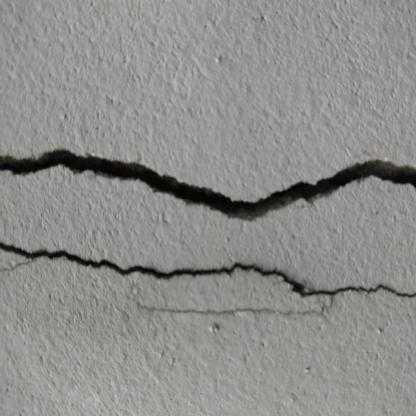crack: (0, 149, 416, 219), (0, 242, 415, 298)
